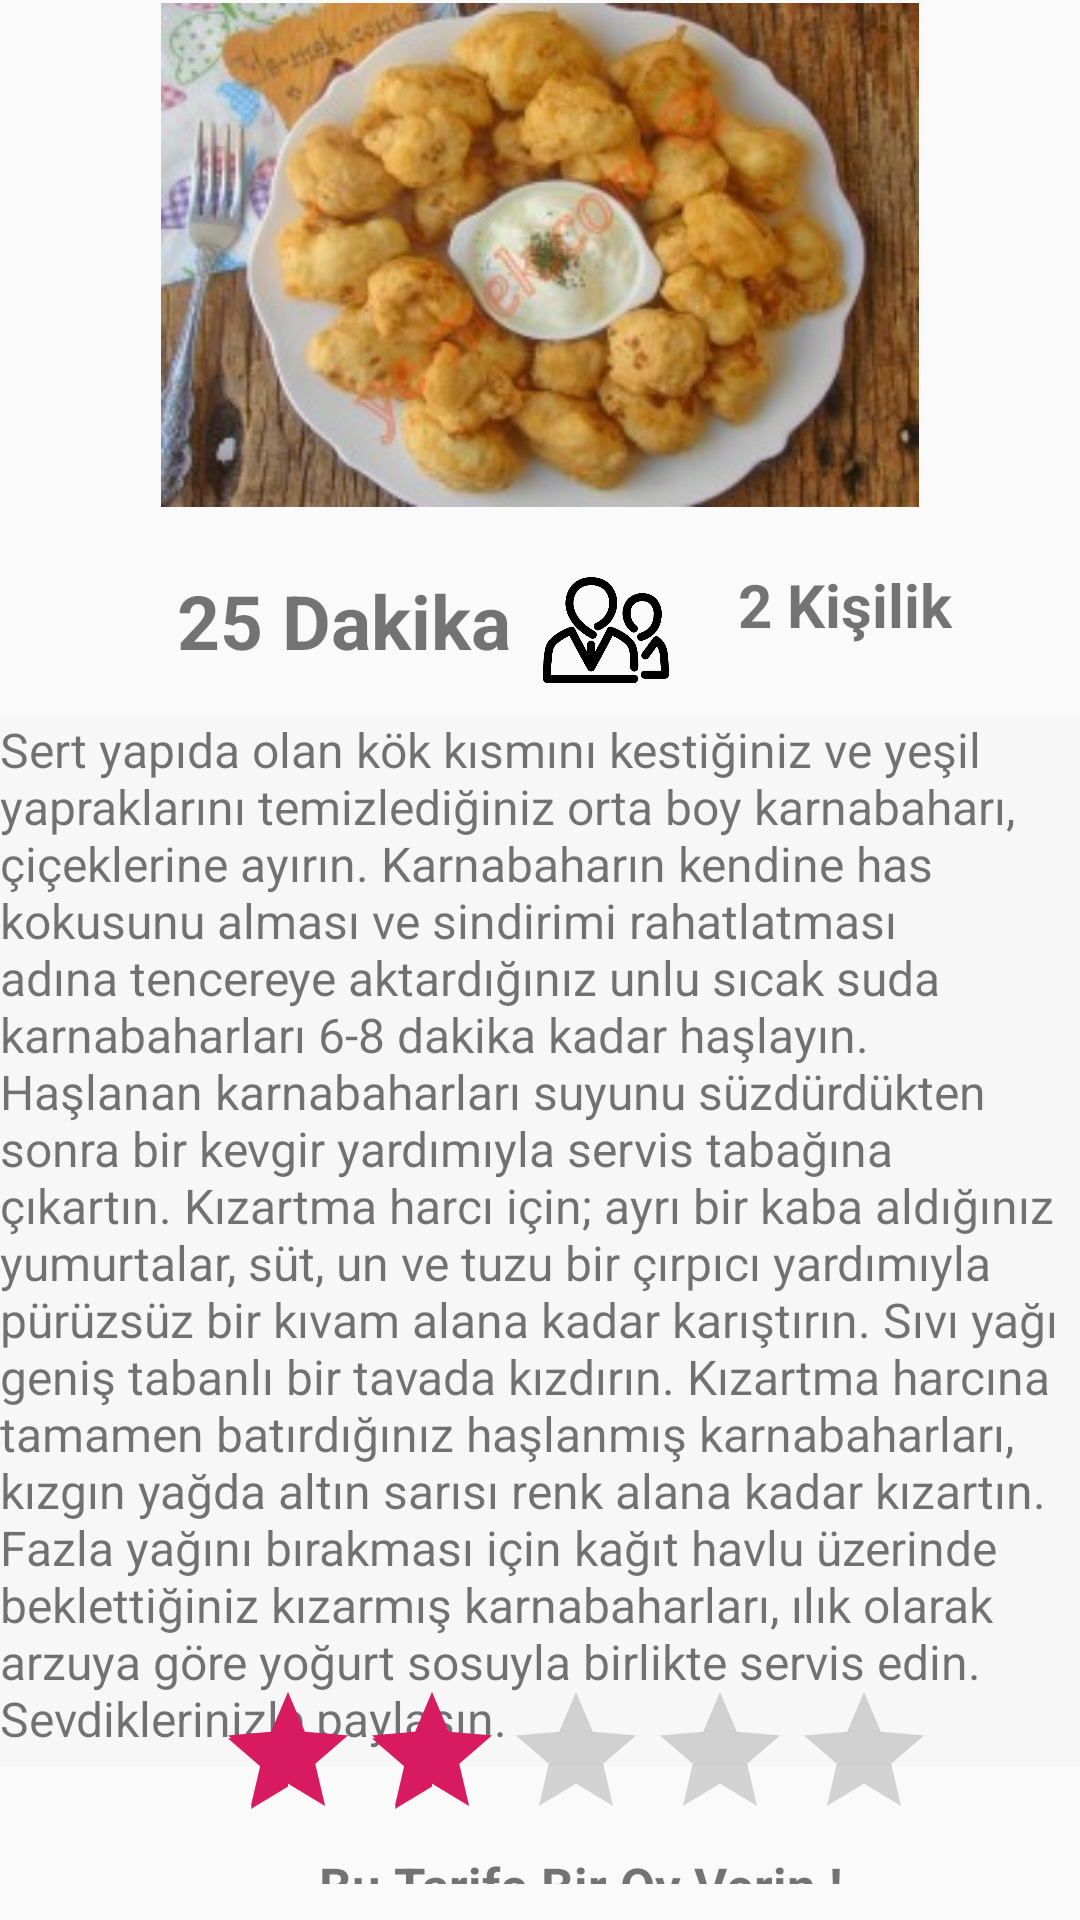

Screen size 1080 x 1920. Icon name, then its center in pixels as (x,y):
personicon: (606,630)
